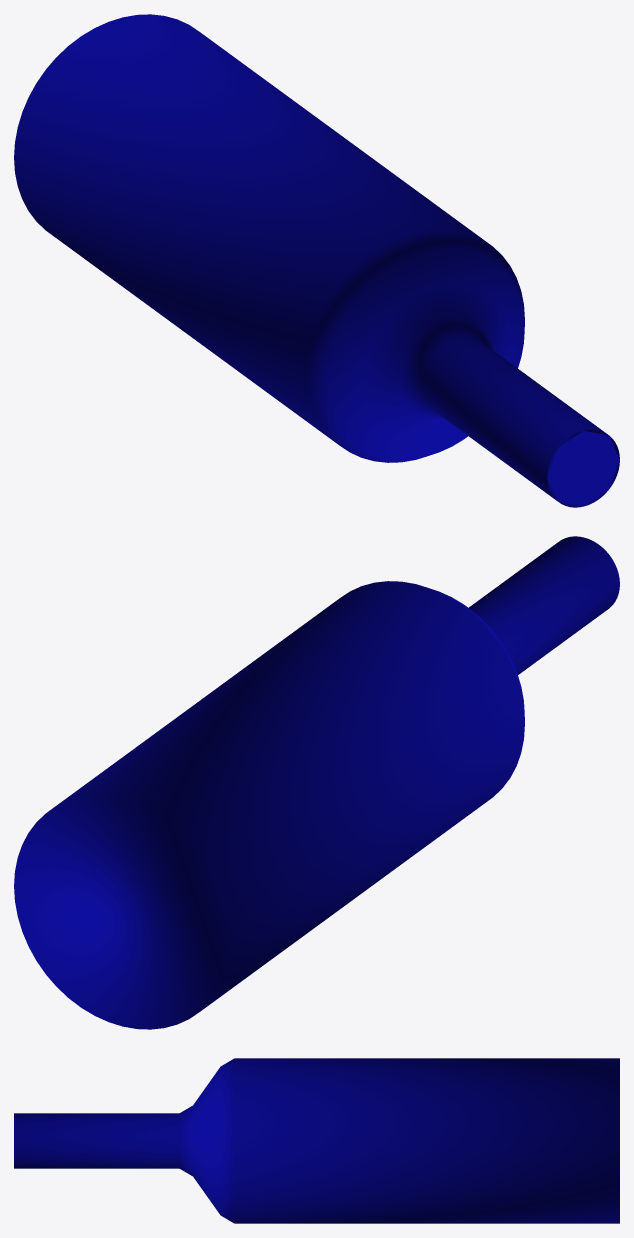
Rendered from model_align.obj.
3 renders of one model, top to bottom at view 1: azimuth 30°, elevation 25°; view 2: azimuth 150°, elevation 25°; view 3: azimuth 270°, elevation 25°, orthographic. The views are drawn at different scales.
Visible parts, largest first — view 1: mesh2_mesh2-geometry, mesh1_mesh1-geometry; view 2: mesh2_mesh2-geometry; view 3: mesh2_mesh2-geometry.
Boxes of the visible parts, <box> form: mesh2_mesh2-geometry: <box>14,14,619,507</box>; mesh1_mesh1-geometry: <box>547,430,619,506</box>; mesh2_mesh2-geometry: <box>14,536,619,1029</box>; mesh2_mesh2-geometry: <box>14,1058,619,1223</box>.
Size of the model in its own units: 0.0431 by 0.0431 by 0.1582.
